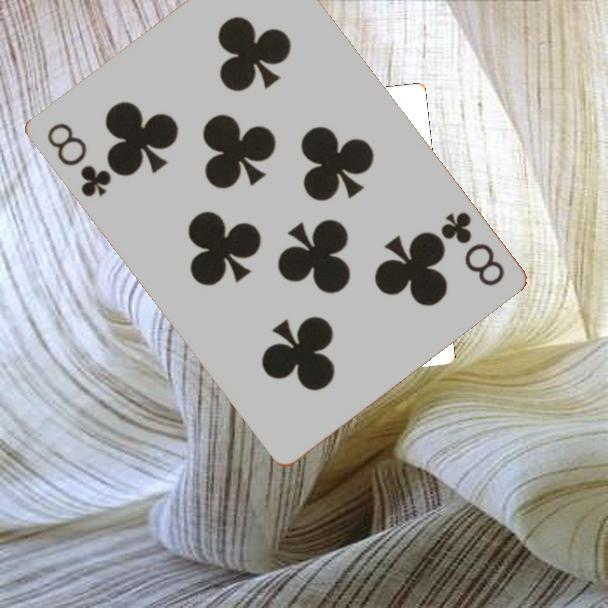c08: (42, 119, 114, 200), (436, 208, 507, 290)
